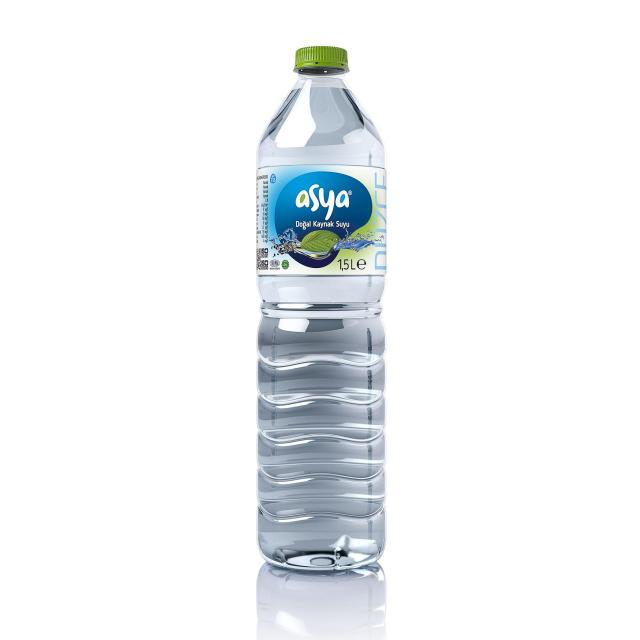bottle: (253, 44, 394, 582)
